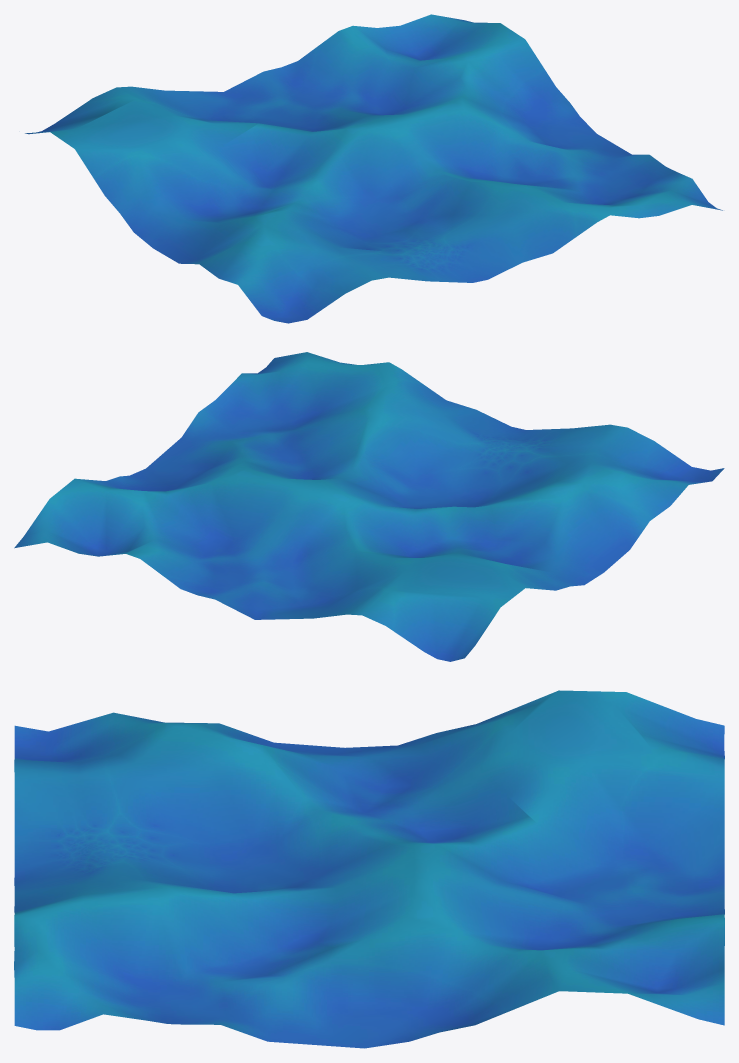
File: Ground_Ice 1.fbx
The picture shows the model from 3 angles, top to bottom: view 1: azimuth 30°, elevation 25°; view 2: azimuth 150°, elevation 25°; view 3: azimuth 270°, elevation 25°; orthographic projection. The views are drawn at different scales.
Visible parts, largest first — view 1: Plane; view 2: Plane; view 3: Plane.
Part boxes in pixels (x1=…): Plane: x1=25, y1=14, x2=722, y2=323; Plane: x1=14, y1=352, x2=724, y2=661; Plane: x1=14, y1=690, x2=724, y2=1048.
Bounding box in the file's own units: 200 × 18 × 200.
